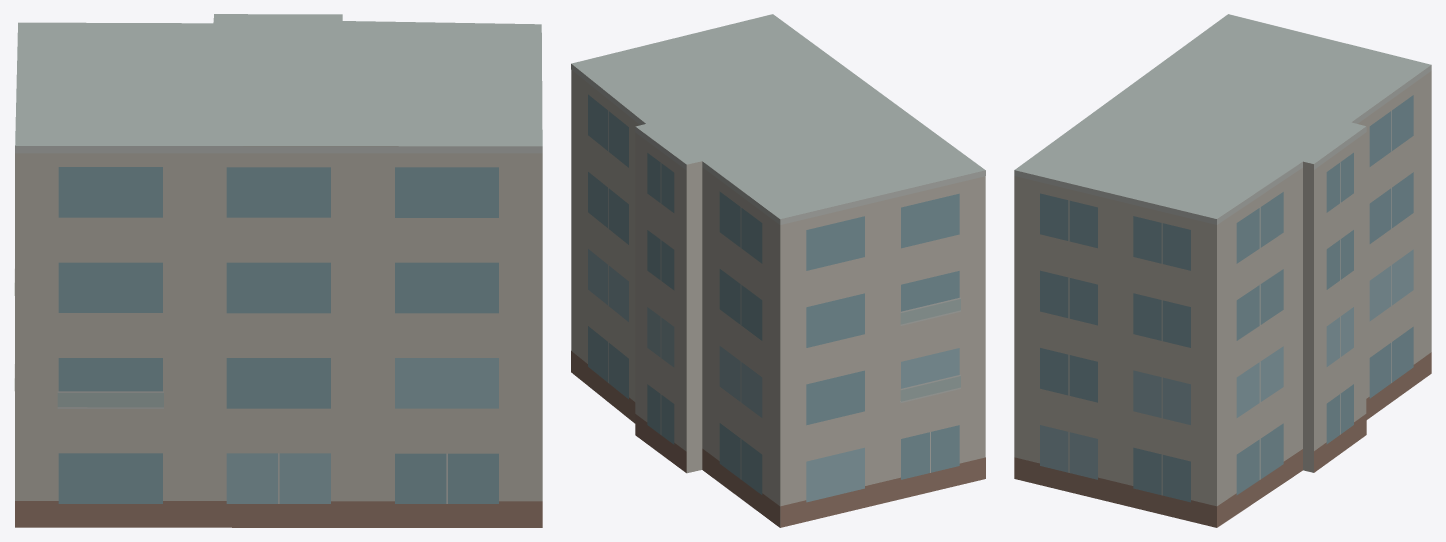
File: survey-upis-32743864.glb
The picture shows the model from 3 angles, left to right: view 1: azimuth 30°, elevation 25°; view 2: azimuth 150°, elevation 25°; view 3: azimuth 270°, elevation 25°; orthographic projection. The views are drawn at different scales.
Visible parts, largest first — view 1: survey-upis-32743864.tmp; view 2: survey-upis-32743864.tmp; view 3: survey-upis-32743864.tmp.
Boxes of the visible parts, box(x1,y1,x2,y2) form: survey-upis-32743864.tmp: box(14, 14, 542, 527); survey-upis-32743864.tmp: box(571, 14, 985, 527); survey-upis-32743864.tmp: box(1014, 14, 1431, 527).
Bounding box in the file's own units: 18.25 × 12.8 × 15.68.
